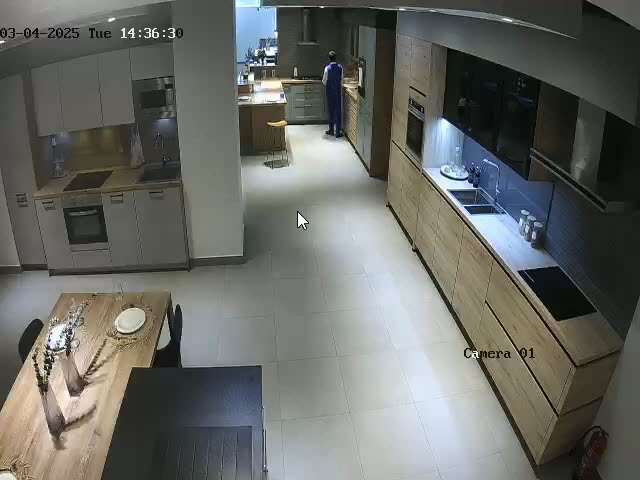employee: (321, 50, 344, 138)
